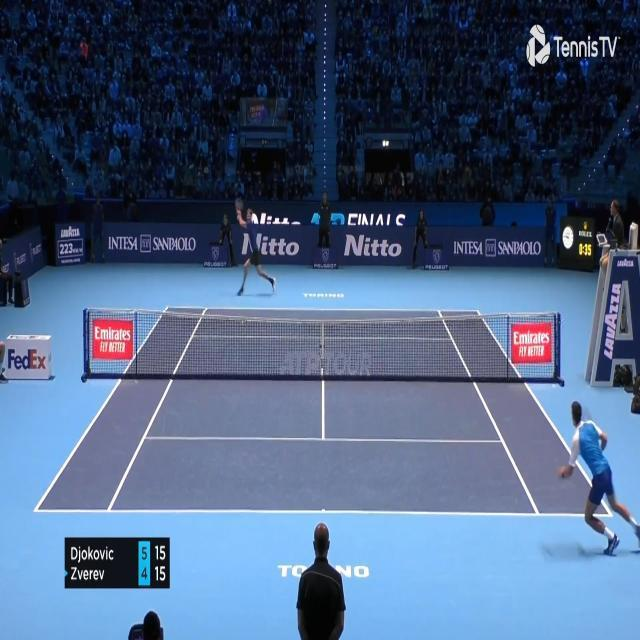court: (32, 306, 614, 518)
net: (81, 310, 564, 380)
player: (559, 400, 640, 557)
